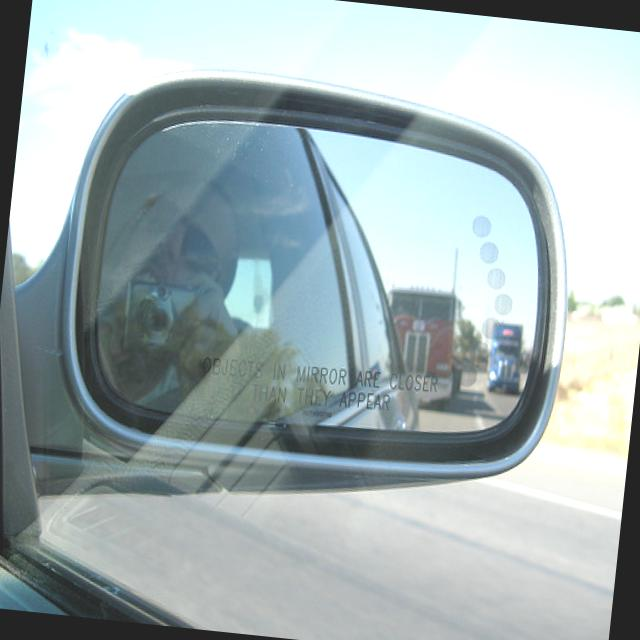Vehicle: (377, 243, 478, 412), (486, 322, 526, 394)
